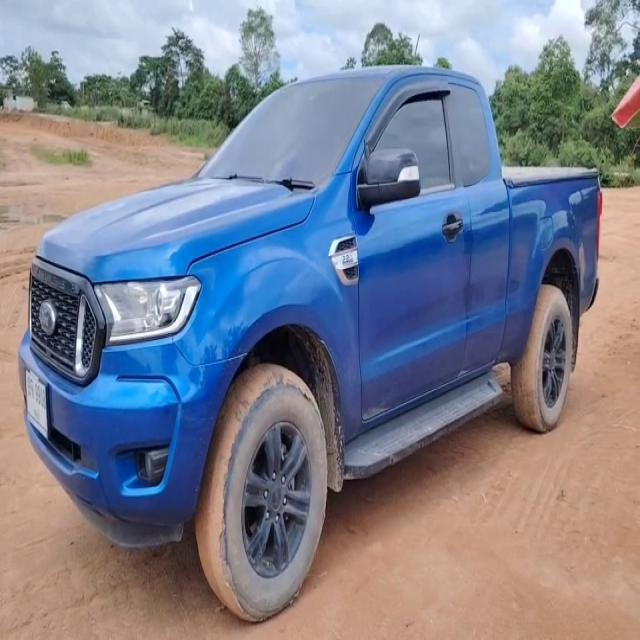Digit: (35, 382, 46, 409)
Licenseplate: (25, 368, 48, 439)
Provincename: (33, 406, 40, 424)
Thaichar: (26, 374, 34, 399)
